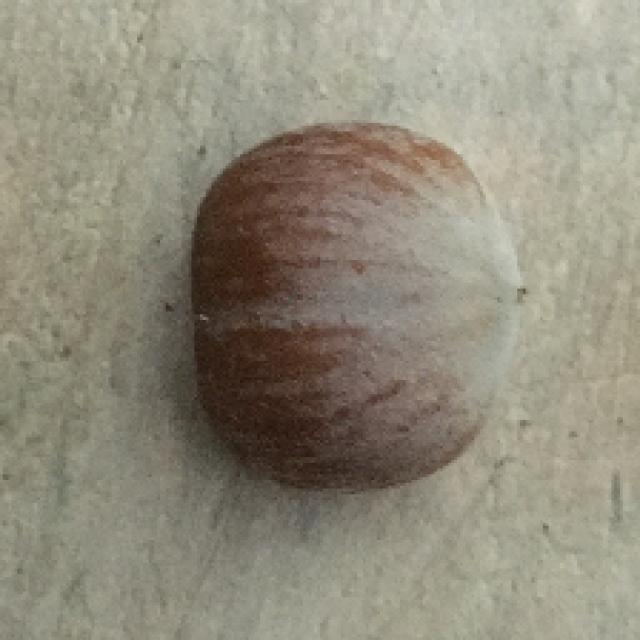QualityHazelnut: (185, 116, 527, 493)
